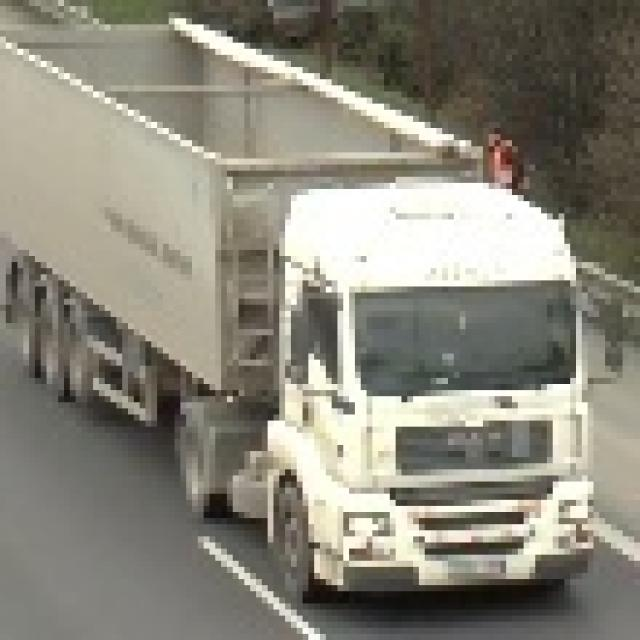TRUCK: (0, 24, 623, 610)
